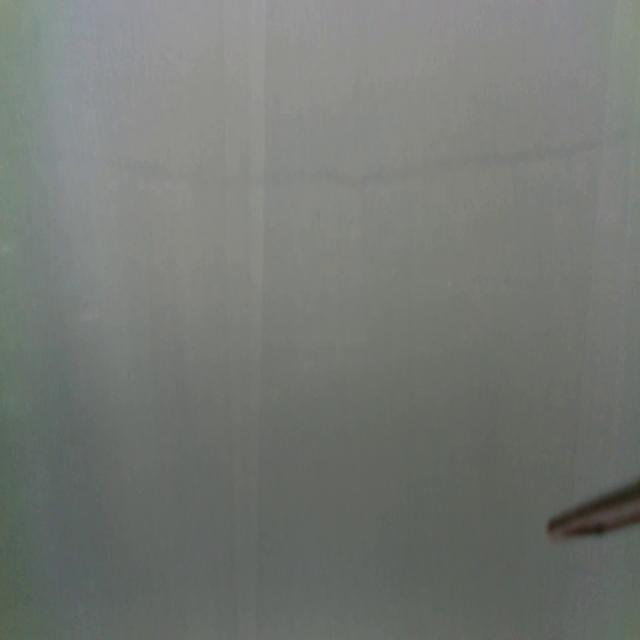color bleeding: (109, 118, 640, 191)
